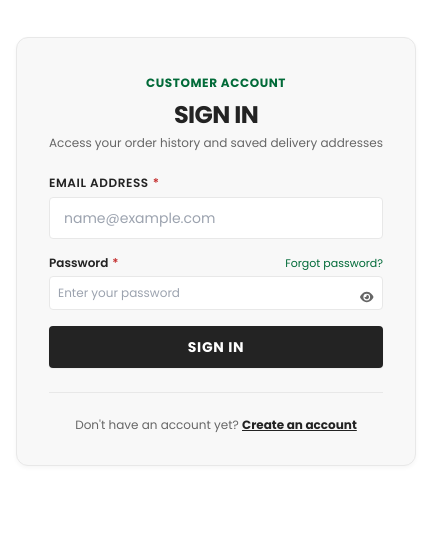
Scenario: Phase 9: Comprehensive Form Validation Suite (FORM-01 to FORM-12) › SEC-12: Displays security notification when IP is blocked by admin or rate limiter
The image size is (433, 536).
Type "blocked@example.com" into the field labelled "Email Address*" at (216, 218), box [49, 197, 383, 239]
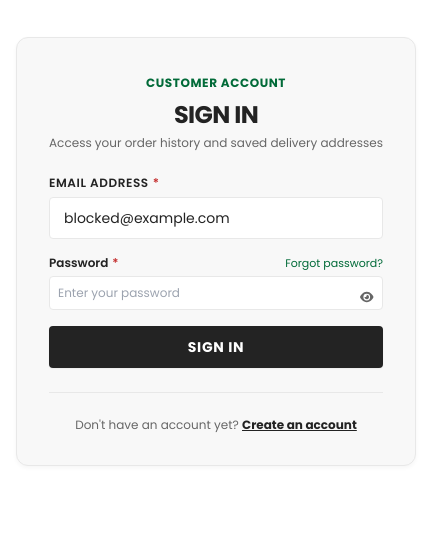
Type "Password123!" into the password field named "password" at (216, 293), box [49, 276, 383, 310]
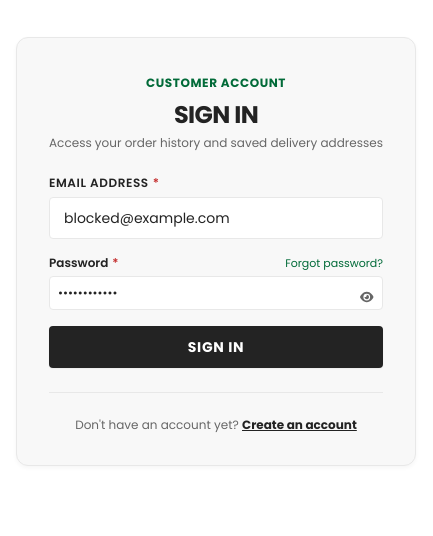
Click the button "Sign In" at (216, 347), box [49, 326, 383, 368]
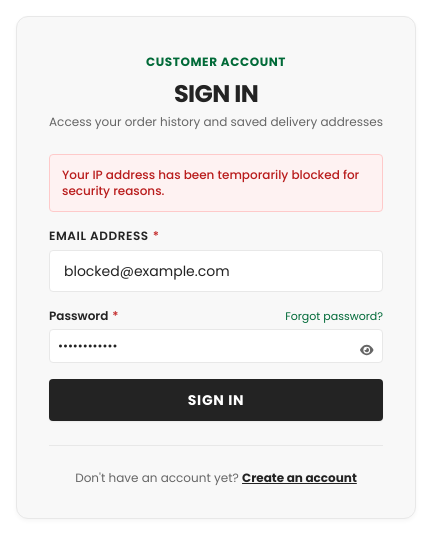
Check: the text "Your IP address has been temporarily blocked" is shown, box [62, 166, 359, 199]
